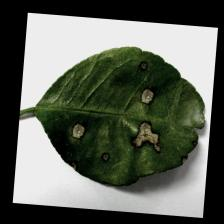canker: (64, 54, 195, 178)
